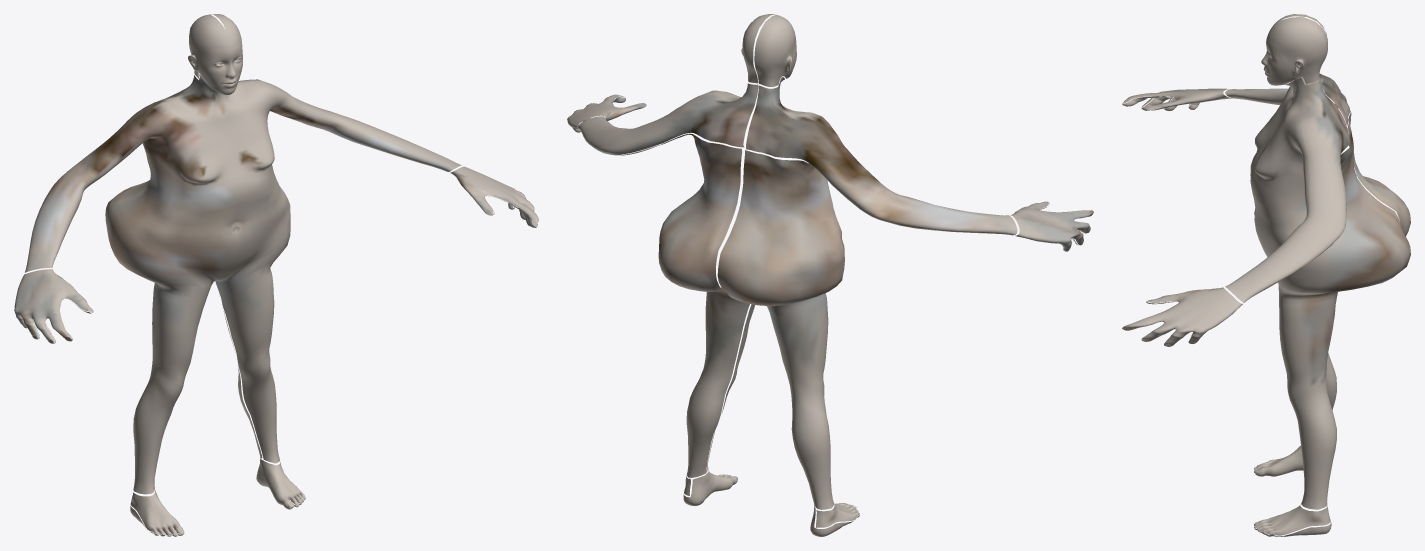
File: body_mesh.glb
3 renders of one model, left to right at view 1: azimuth 30°, elevation 25°; view 2: azimuth 150°, elevation 25°; view 3: azimuth 270°, elevation 25°, orthographic.
Parts seen in each view (by area): view 1: base_male.obj; view 2: base_male.obj; view 3: base_male.obj.
Part boxes in pixels (left/top/right/bottom): base_male.obj: left=14, top=14, right=538, bottom=536; base_male.obj: left=567, top=14, right=1093, bottom=536; base_male.obj: left=1122, top=14, right=1410, bottom=536.
Bounding box in the file's own units: 1.71 × 1.6 × 0.8605.
